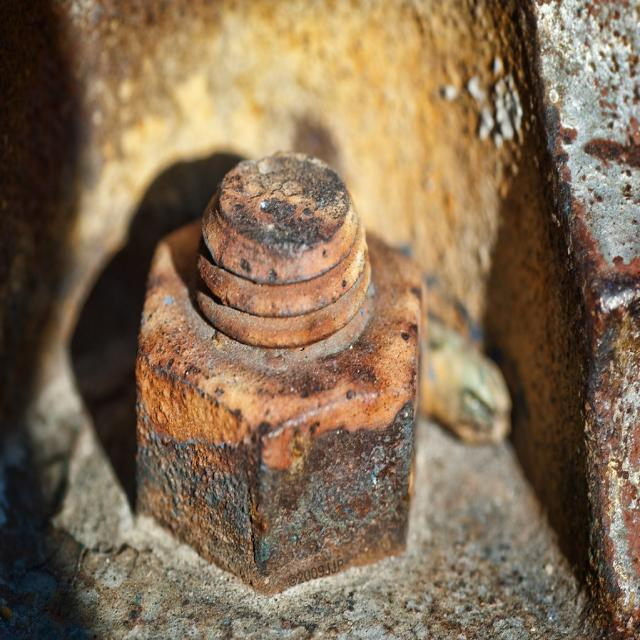Rusty bolt: (134, 208, 420, 584)
